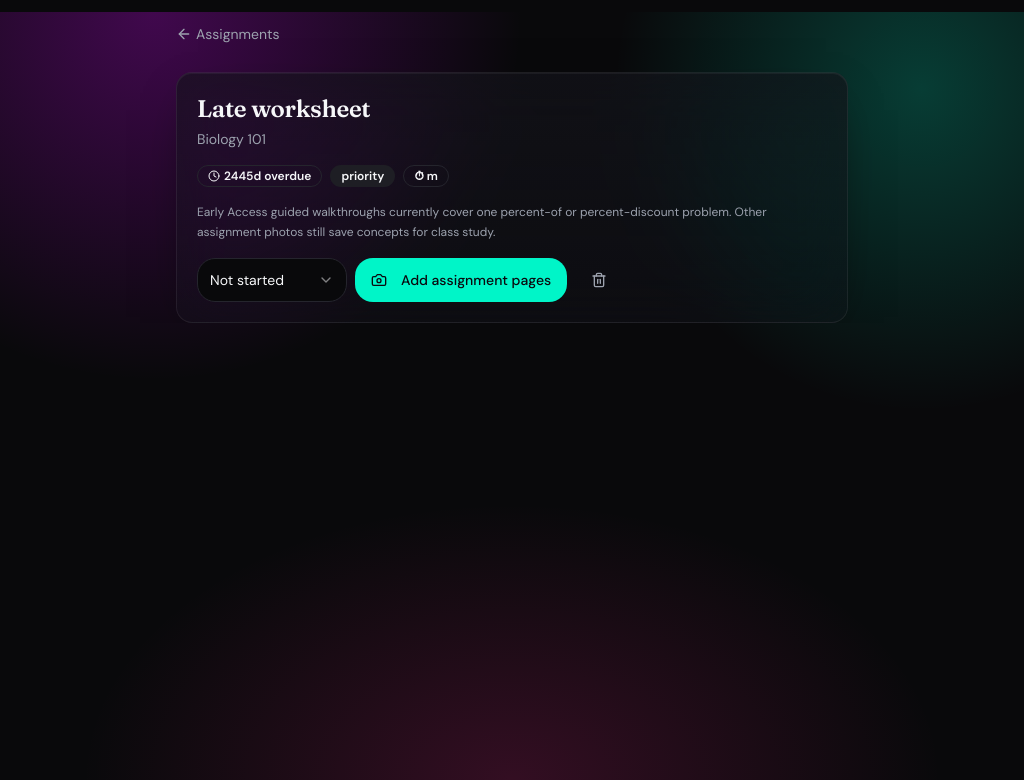
Test: removes overdue immediately after completion and after remount, restoring it if reopened
The width and height of the screenshot is (1024, 780).
Later steps or results of the test are not shown.
Expected: the text "2445d overdue" is shown, top-left (197, 165), bottom-right (322, 187)
Step 1. Press ArrowDown in the dropdown named "Assignment status", box top-left (197, 258), bottom-right (347, 302)
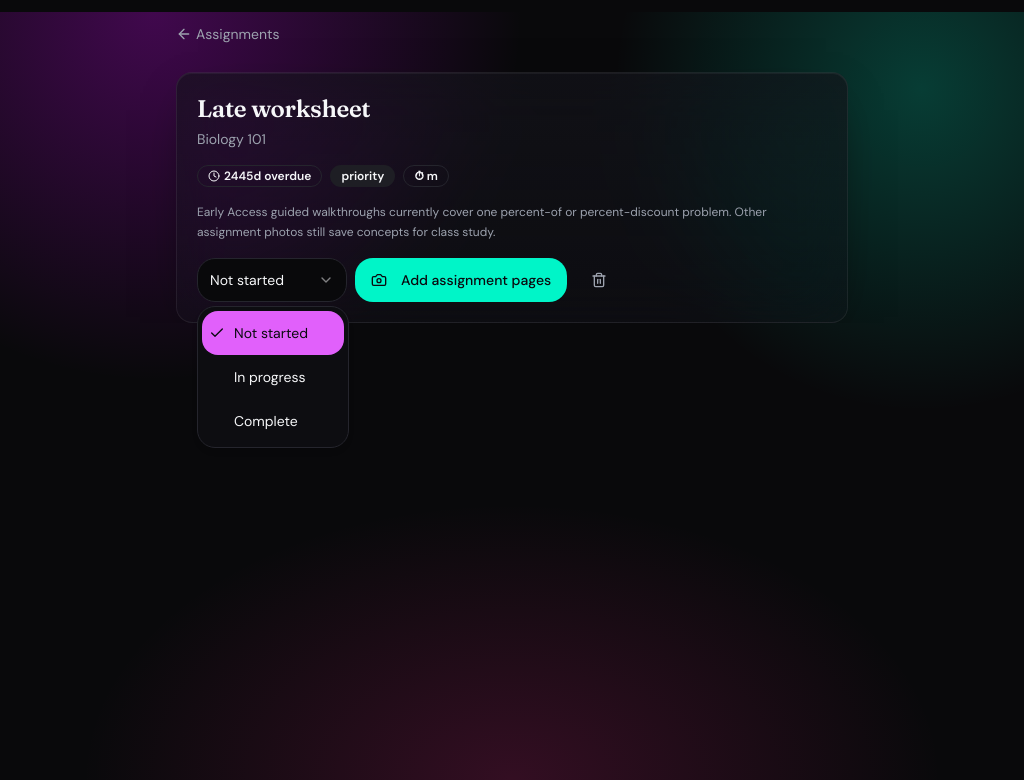
Step 2. Click the option "Complete" → (266, 421), box top-left (234, 412), bottom-right (298, 430)
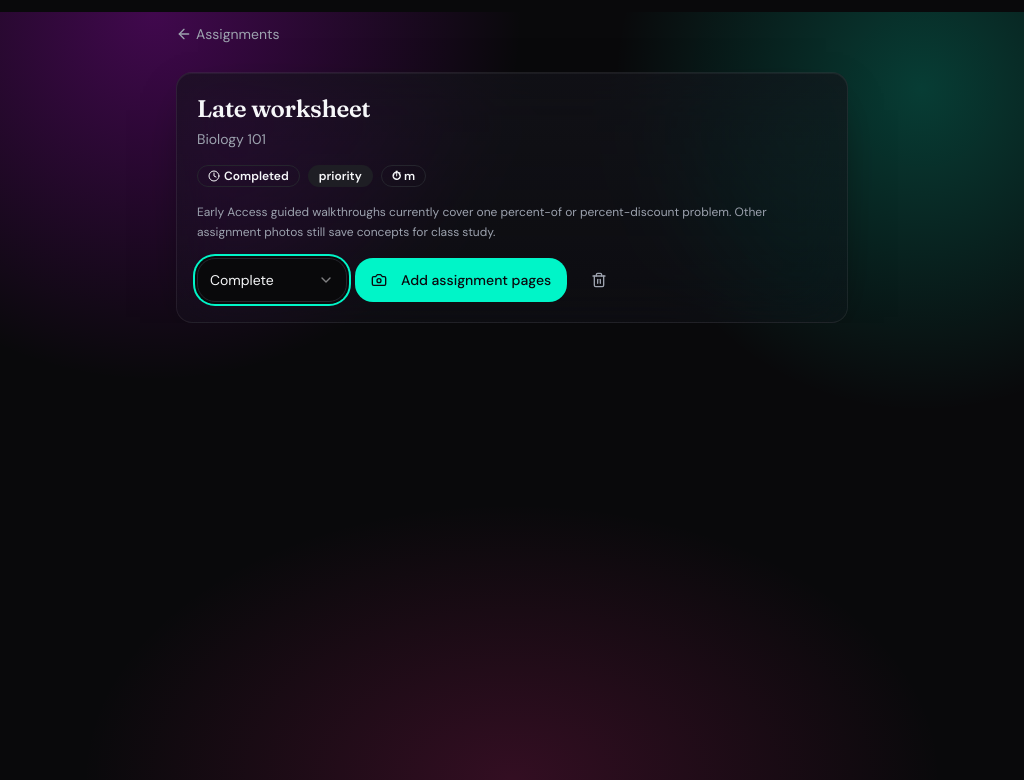
Expected: the text "Completed" is shown, top-left (197, 165), bottom-right (300, 187)
Expected: the text "overdue" is gone
